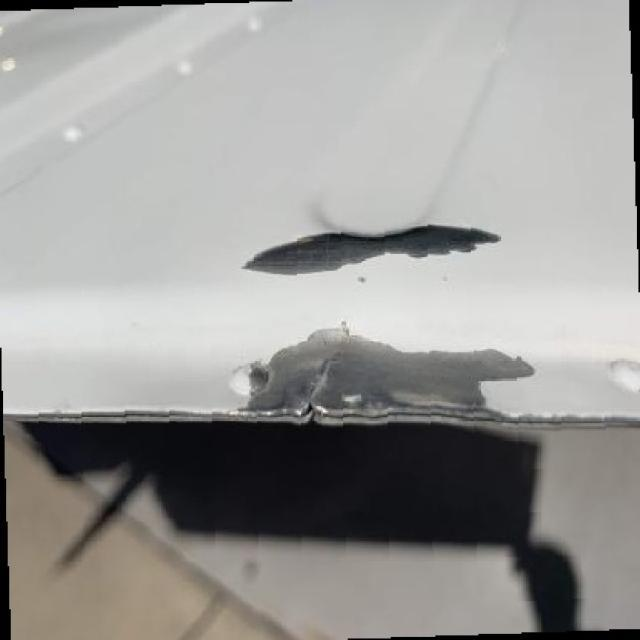crack: (294, 349, 337, 417)
